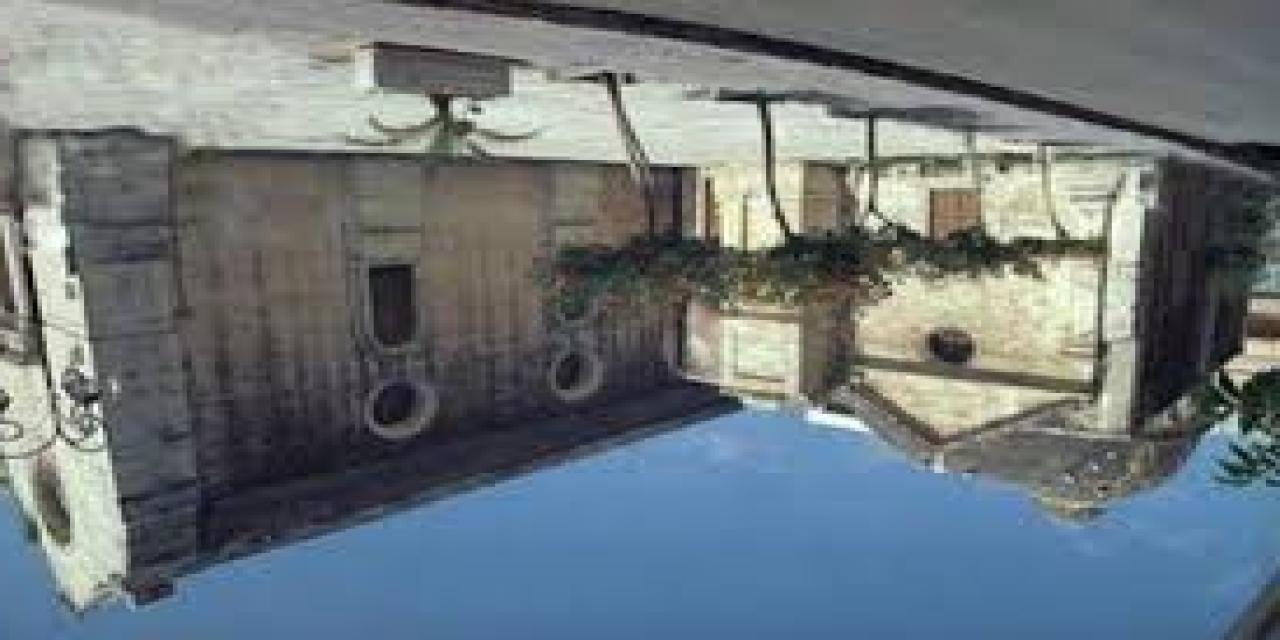Agia Aikaterini: (1, 136, 1248, 614)
